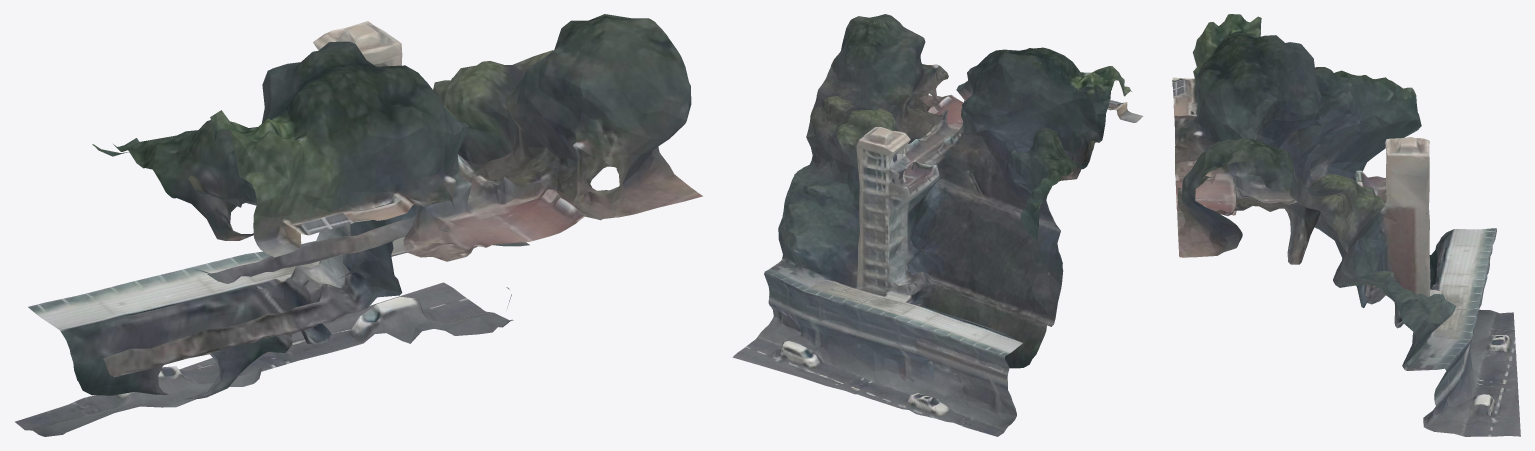
Rendered from Tile_+012_+008_L20_000001300.glb.
3 renders of one model, left to right at view 1: azimuth 30°, elevation 25°; view 2: azimuth 150°, elevation 25°; view 3: azimuth 270°, elevation 25°, orthographic. The views are drawn at different scales.
Visible parts, largest first — view 1: rtc; view 2: rtc; view 3: rtc.
Part boxes in pixels (bbox=[...]): rtc: bbox=[15, 14, 702, 436]; rtc: bbox=[732, 14, 1143, 436]; rtc: bbox=[1172, 14, 1520, 436].
Bounding box in the file's own units: 32.13 × 32.45 × 32.13.
1 material, 1 textured.
